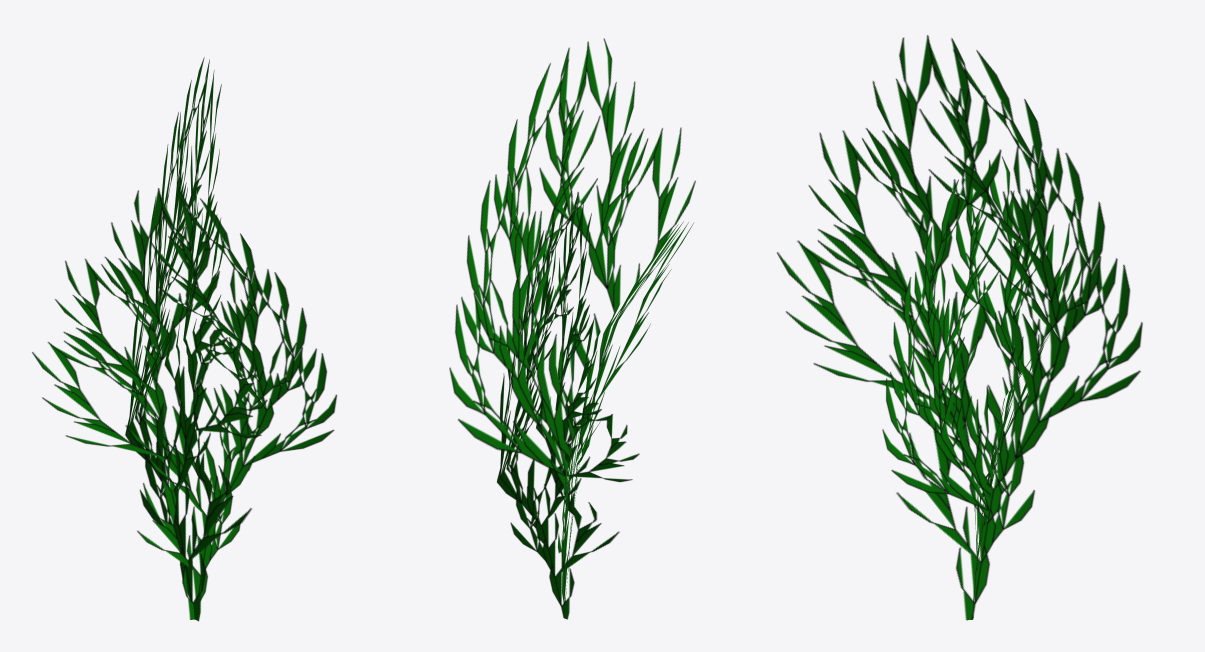
File: Kelp_2_P.glb
3 views of the same model, side by side, from view 1: azimuth 30°, elevation 25°; view 2: azimuth 150°, elevation 25°; view 3: azimuth 270°, elevation 25° (orthographic). The views are drawn at different scales.
Visible parts, largest first — view 1: Kelp_2; view 2: Kelp_2; view 3: Kelp_2.
Boxes of the visible parts, left/top/right/bottom form: Kelp_2: left=32, top=57, right=336, bottom=621; Kelp_2: left=449, top=38, right=695, bottom=619; Kelp_2: left=777, top=35, right=1142, bottom=620.
Bounding box in the file's own units: 1.47 × 3.18 × 2.04.
1 material, 1 textured.
